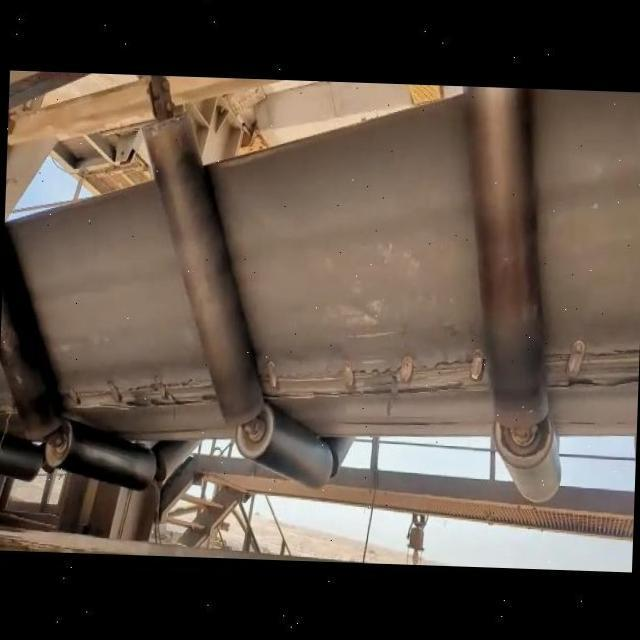Tear: (254, 342, 492, 406), (60, 372, 218, 416), (542, 338, 640, 398)
